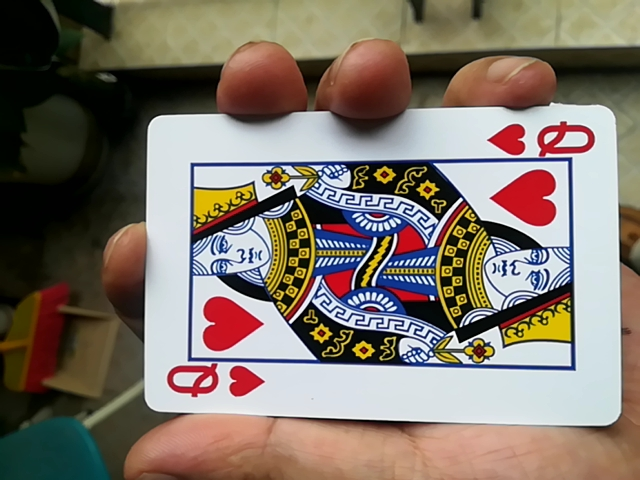hx q: (126, 108, 619, 433)
